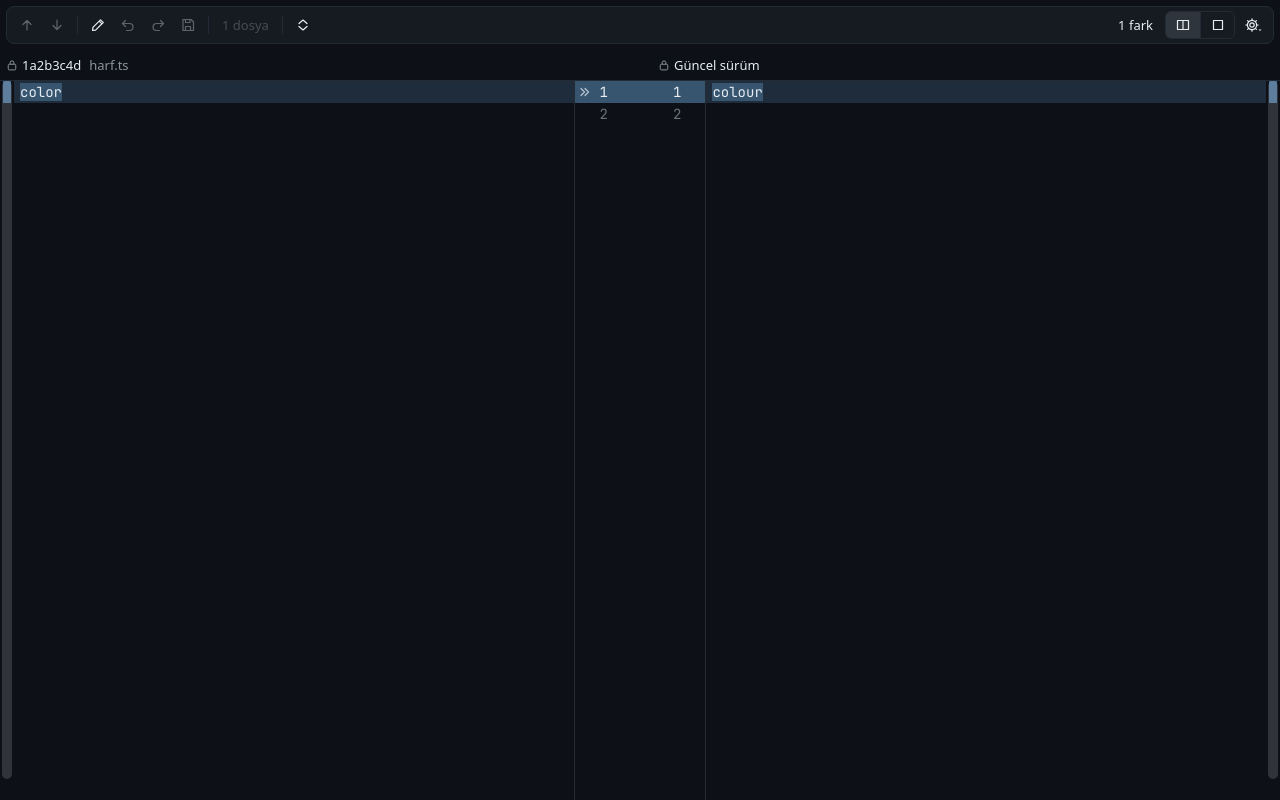
it: dişli menüsündeki seçenekler › vurgulama: karakterler sözcüğün içindeki harfi buluyor
Expected: the text with class "dw-frag" reads "colour", [712,83,763,101]
Click the button named "Ayarlar (Ctrl+Shift+D)".
click(1253, 25)  # box [1239,11,1267,39]
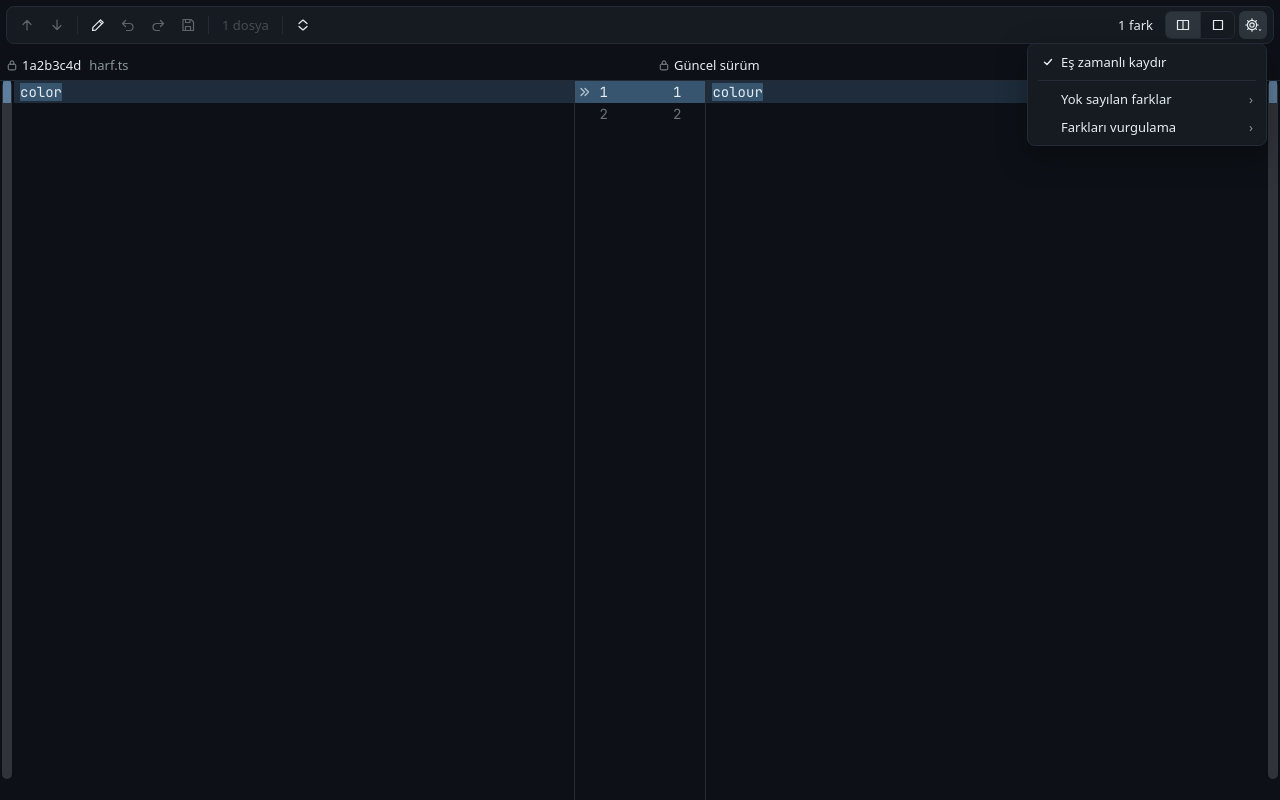
Hover over the text "Farkları vurgulama".
mouse_move(1147, 127)  # box [1032,113,1262,141]
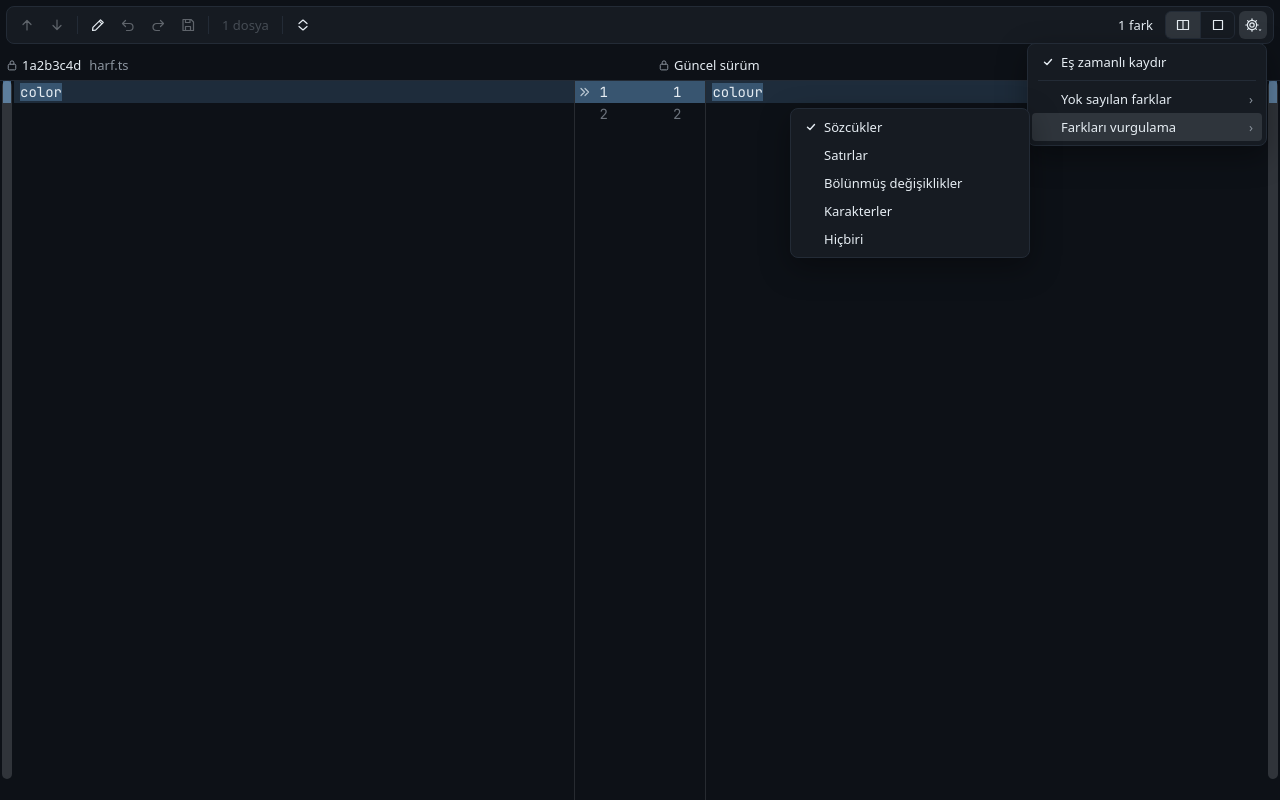
Click the menu item "Karakterler".
click(910, 211)  # box [795,197,1025,225]
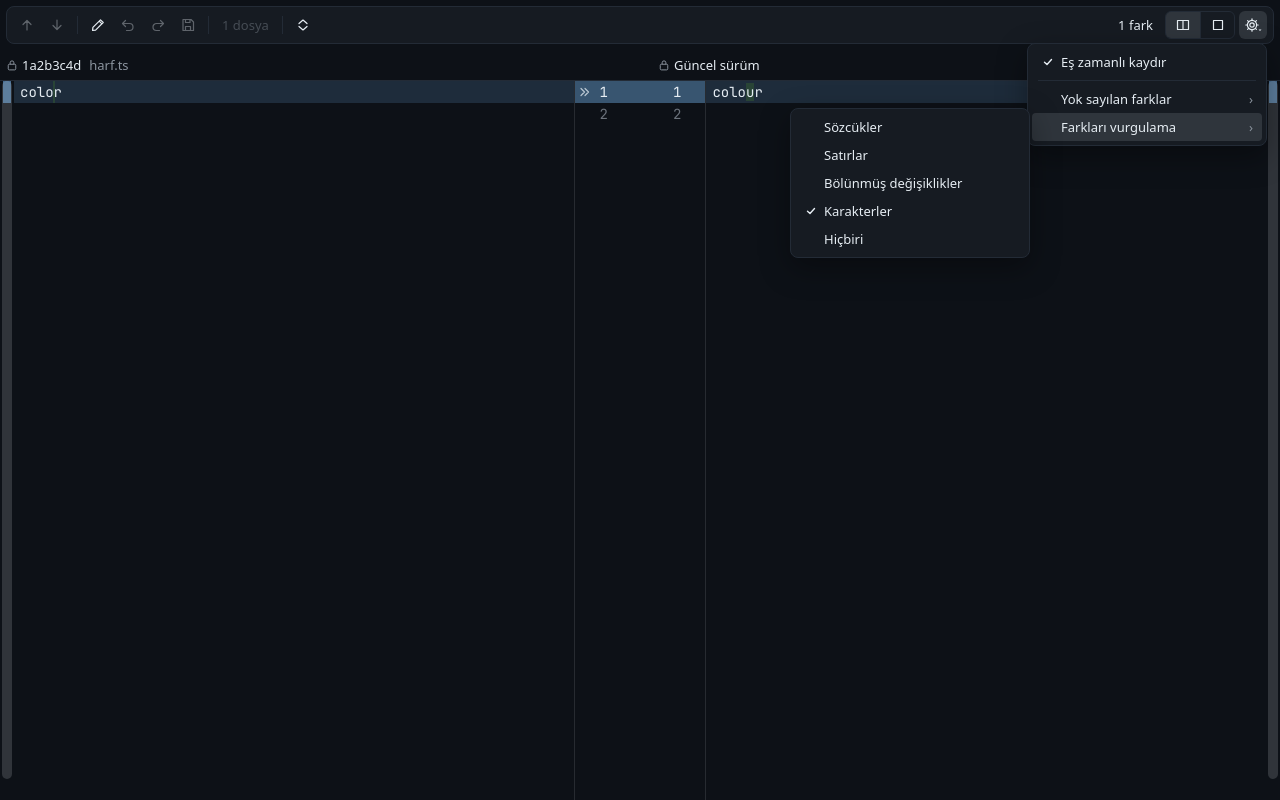
Result: the text with class "dw-frag" reads "u" at [746,83,754,101]
